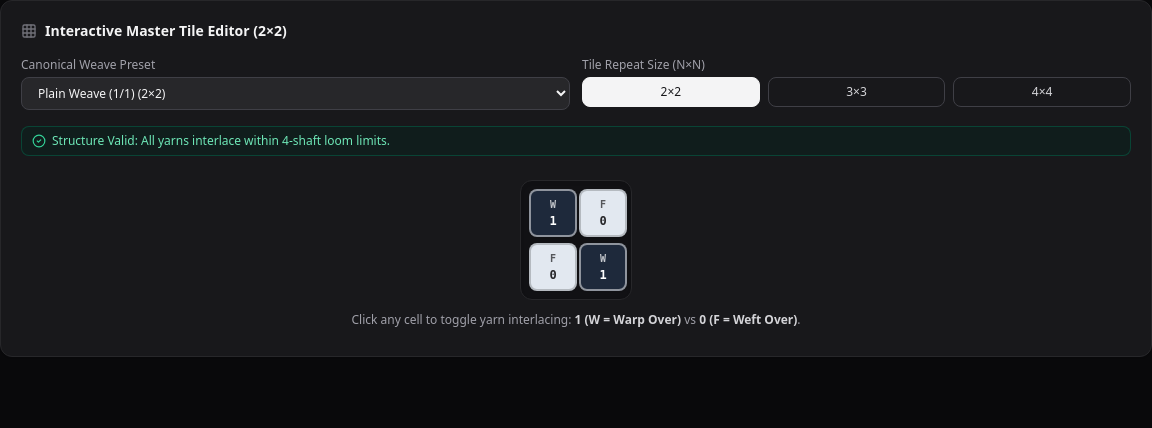
it: Issue #6: Master Tile Real-Time Float and Structural Validation › modularly wraps weave pattern when repeat size is changed instead of appending empty 0s
The image size is (1152, 428).
Check: the heading "Interactive Master Tile Editor (2×2)" is shown, box [45, 21, 287, 41]
// Click 3x3 repeat button
Click the button "3×3" at point(857, 92), box [768, 77, 945, 107]
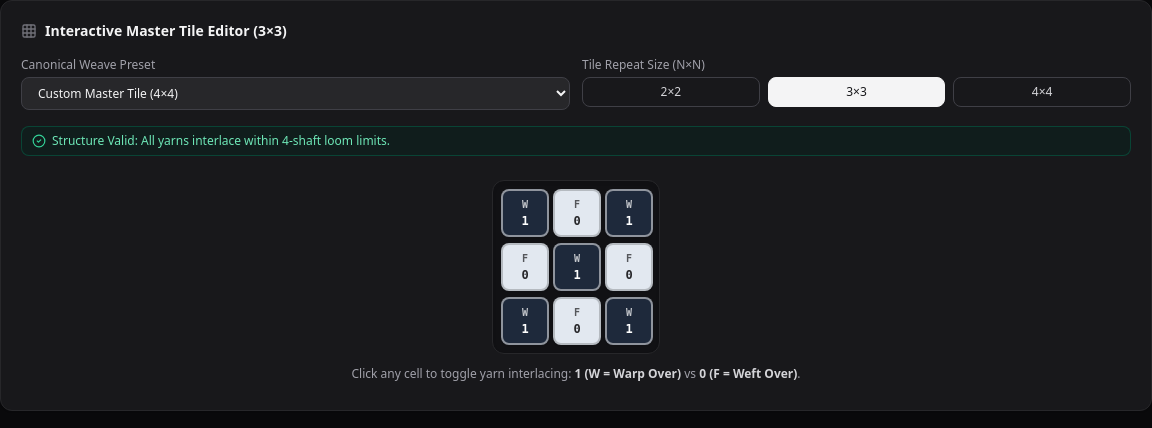
Check: the heading "Interactive Master Tile Editor (3×3)" is shown, box [45, 21, 287, 41]
Check: the 4th button titled "Pick 3, End 1: Warp Over" is shown, box [501, 297, 549, 345]
